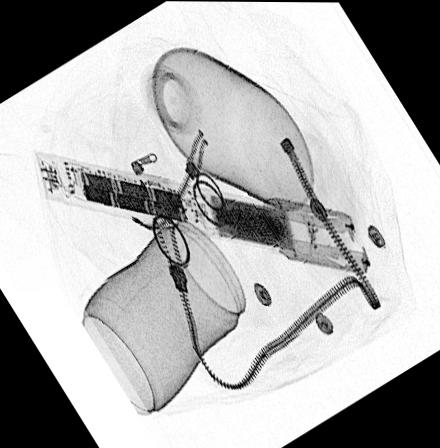Baton: (33, 148, 373, 275)
